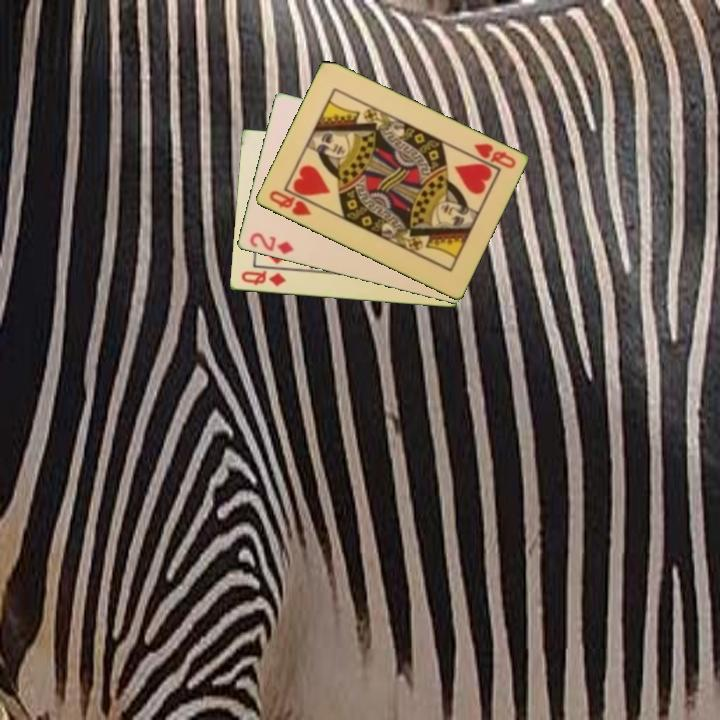2d: (246, 229, 296, 257)
Qd: (237, 267, 289, 290)
Qh: (265, 187, 314, 219), (470, 140, 518, 172)
